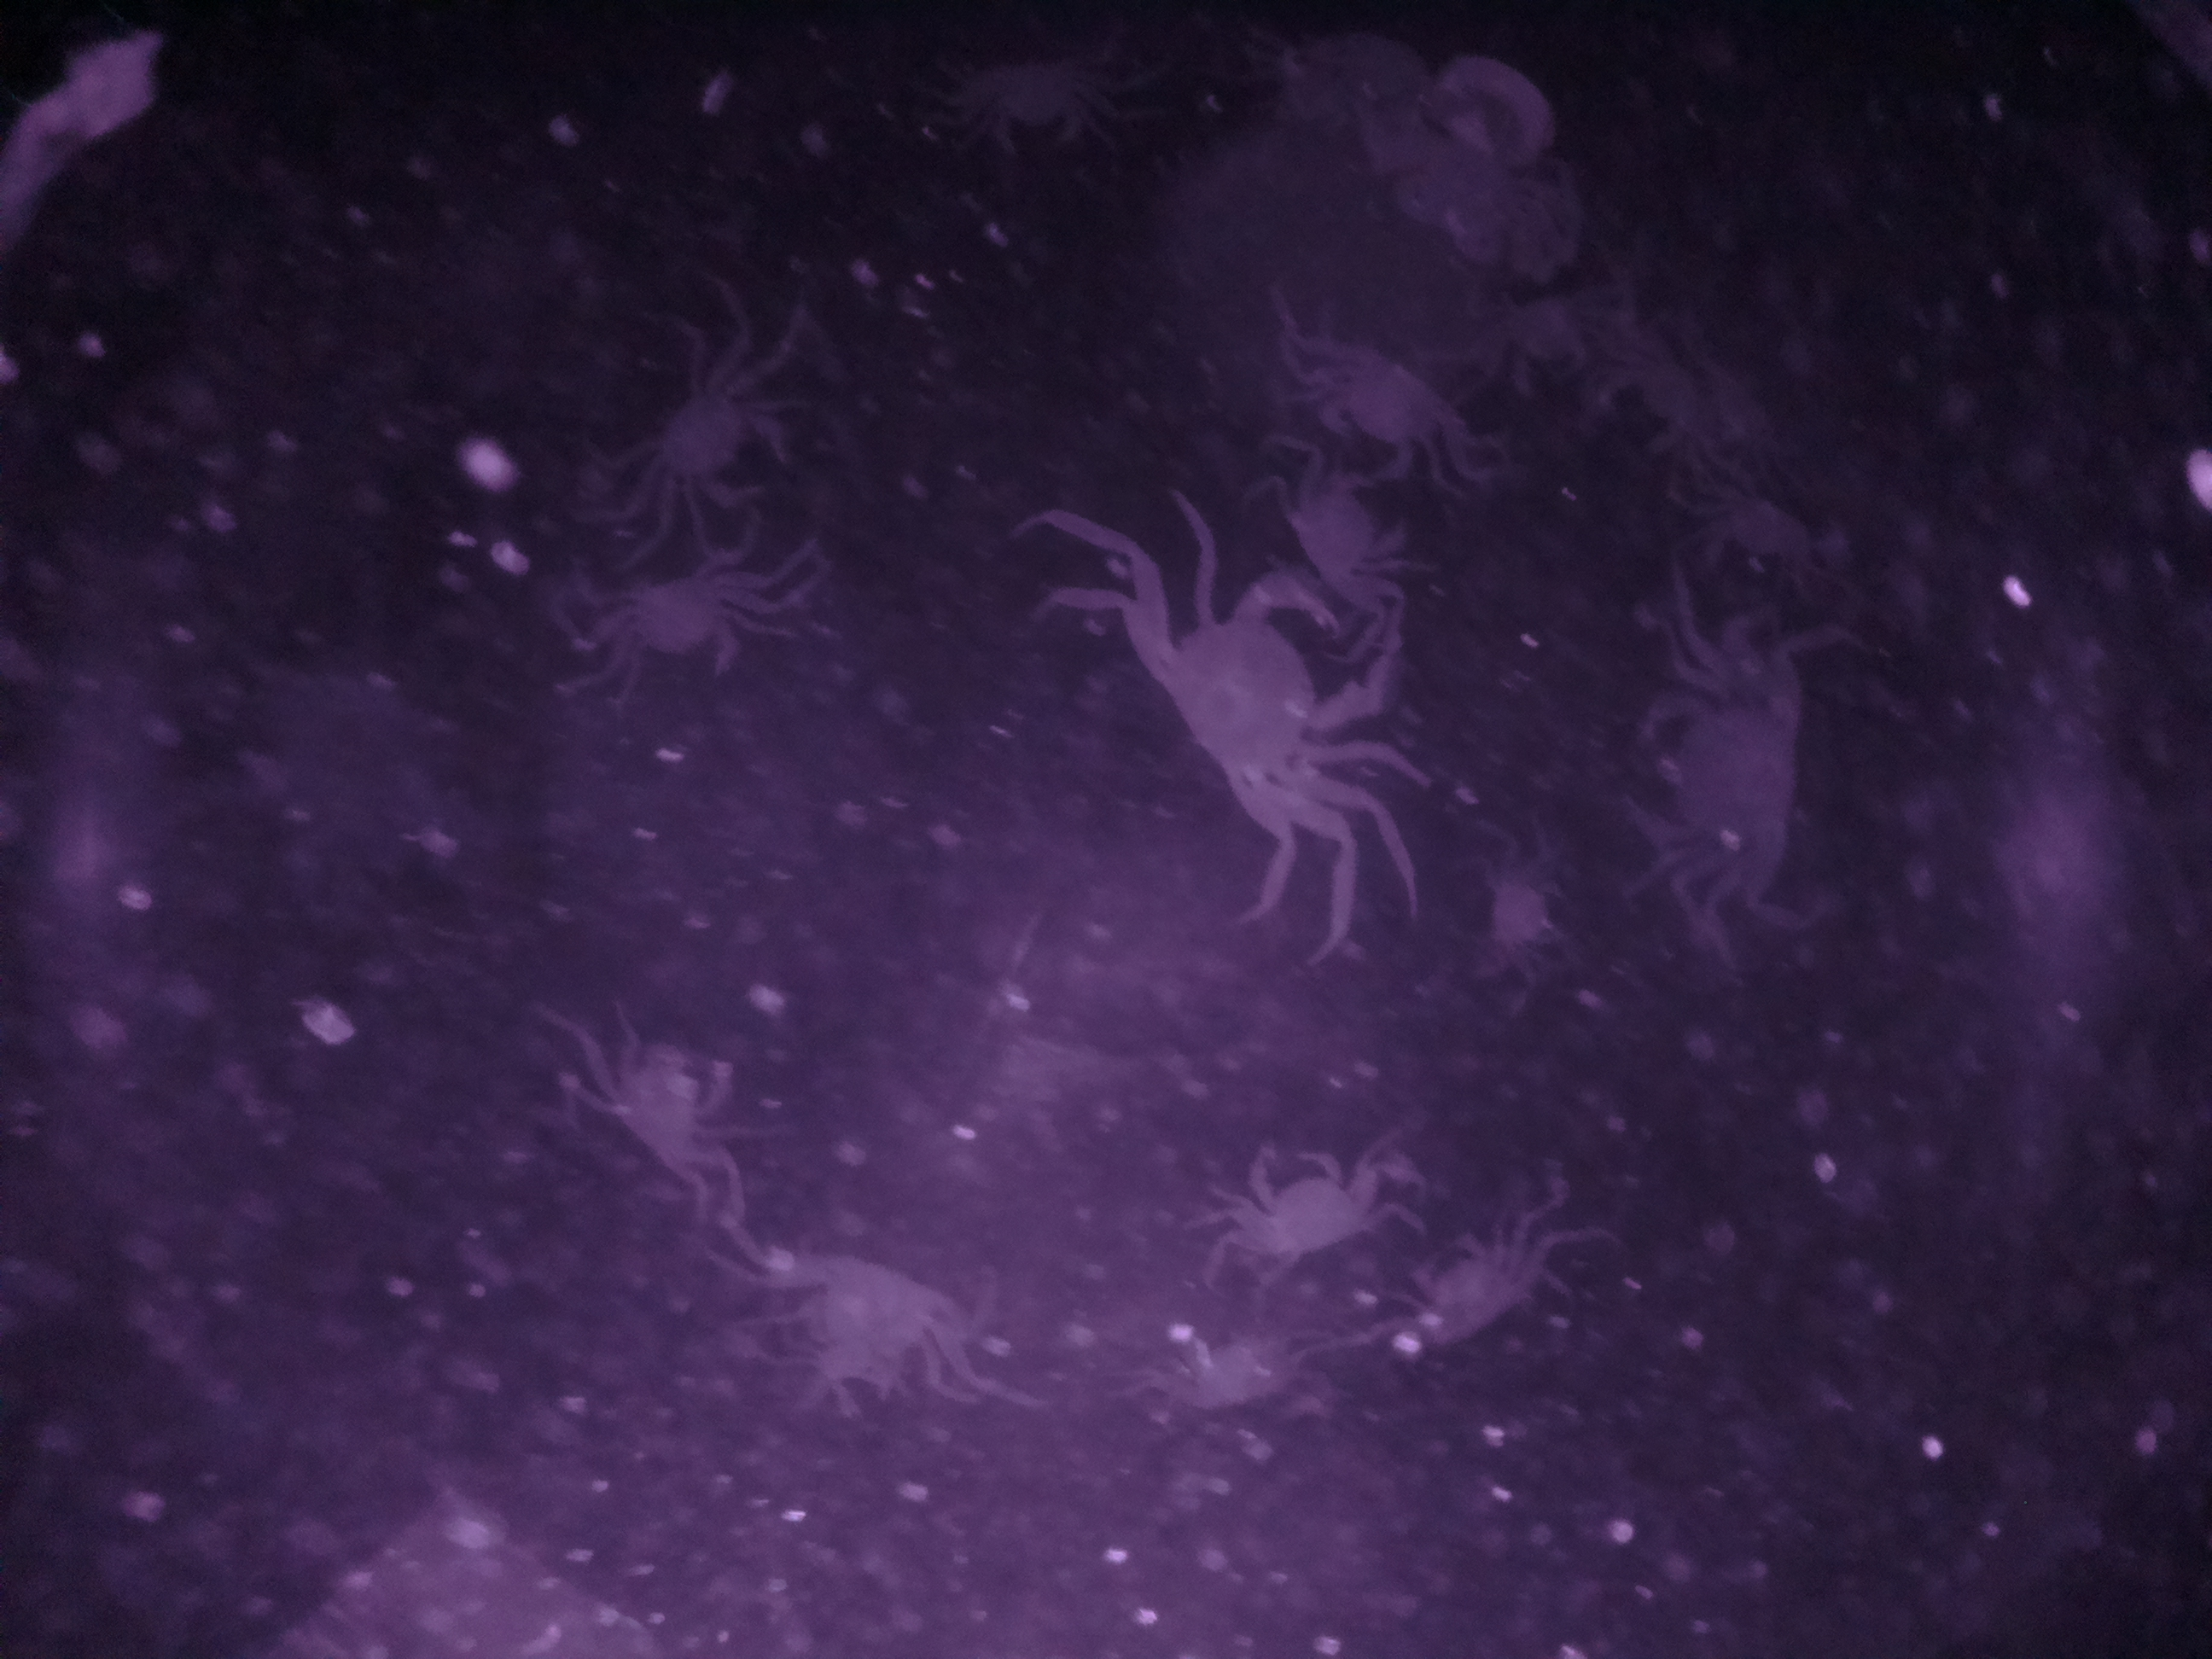Crab: (1137, 561, 1414, 823), (1613, 640, 1825, 904), (1292, 335, 1486, 495), (585, 552, 775, 714), (629, 357, 801, 521), (1226, 1127, 1379, 1286)
